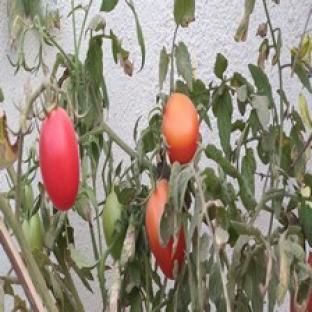Tomato: (39, 108, 79, 210), (145, 179, 185, 278), (162, 94, 199, 164), (102, 190, 125, 260), (23, 214, 43, 250), (21, 184, 33, 215), (306, 292, 311, 311)
